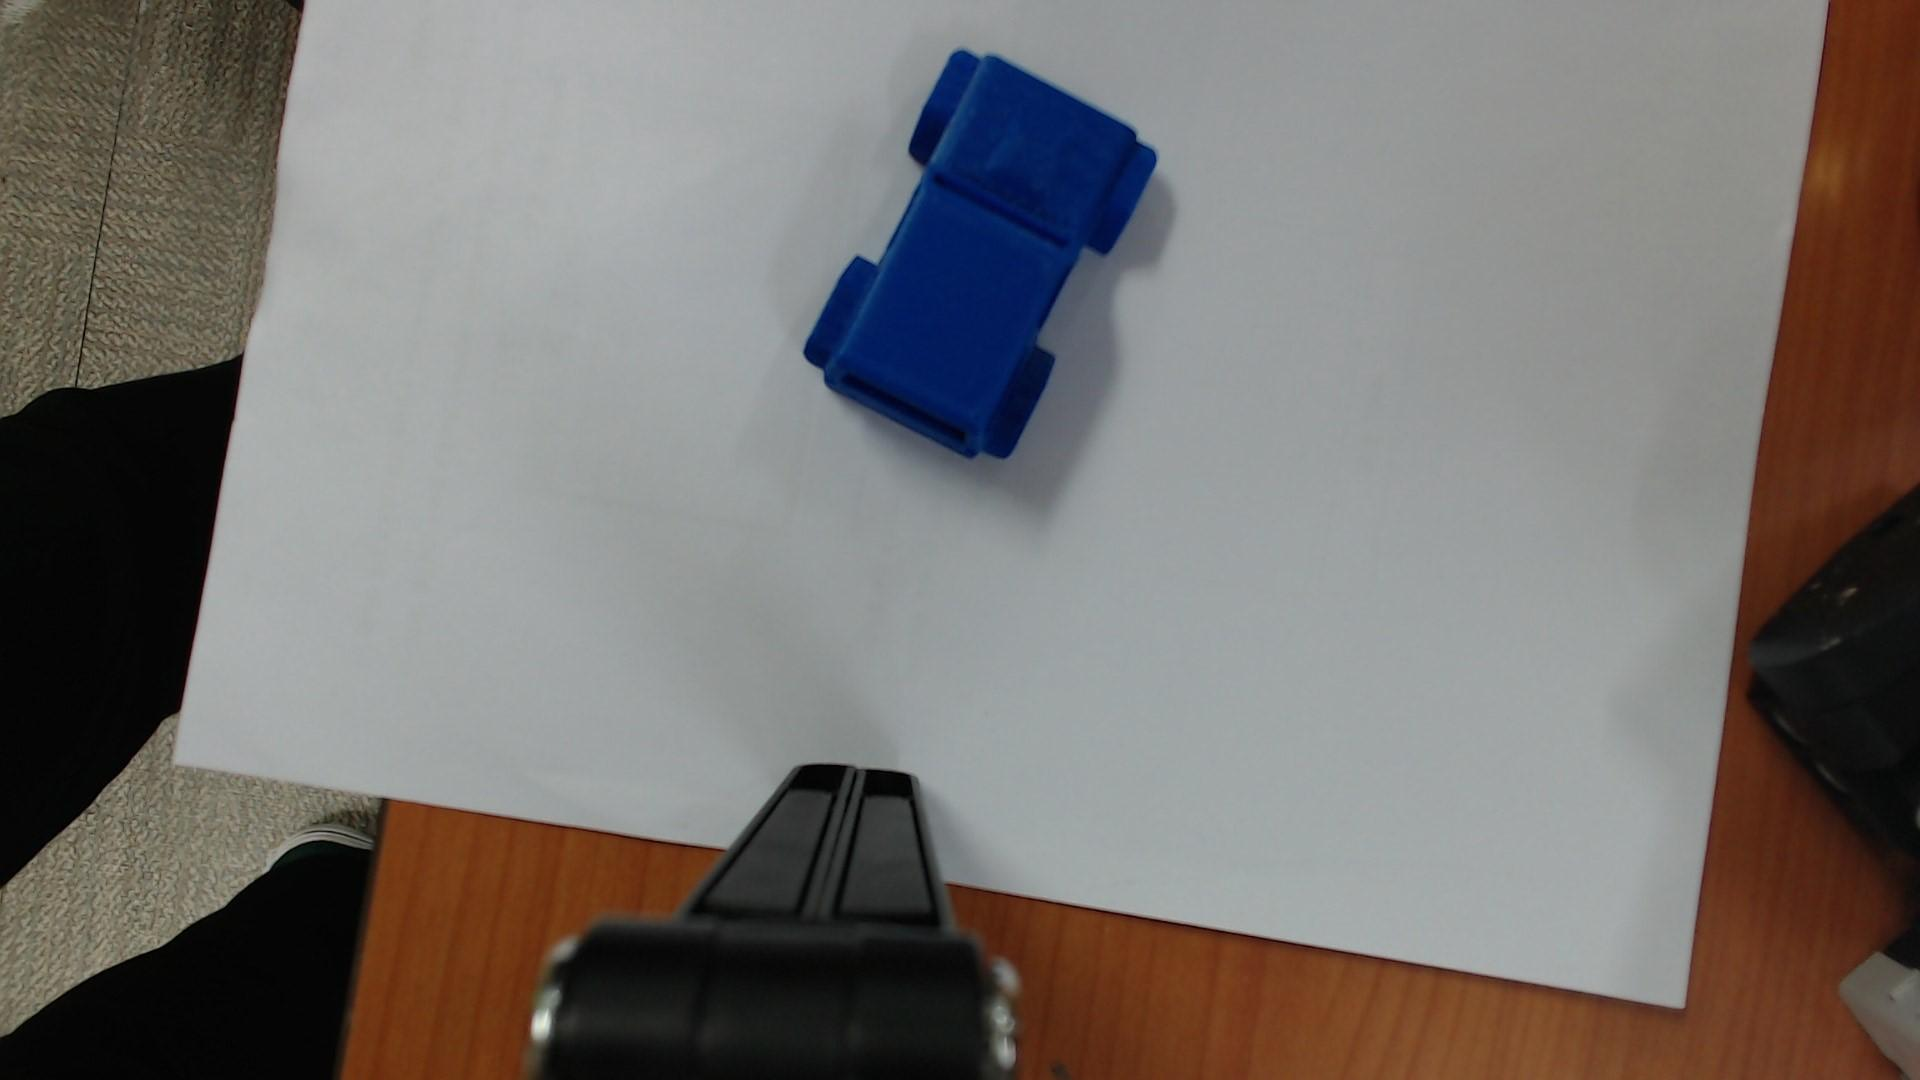Upper_ng: (804, 49, 1156, 456)
